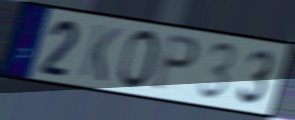2: (35, 15, 82, 80)
3: (197, 41, 237, 102), (237, 48, 275, 107)
K: (77, 21, 123, 84)
O: (115, 28, 161, 91)
P: (151, 32, 201, 95)
